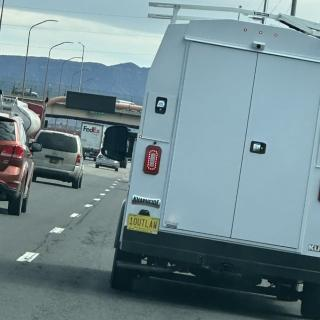license: (127, 214, 161, 236)
